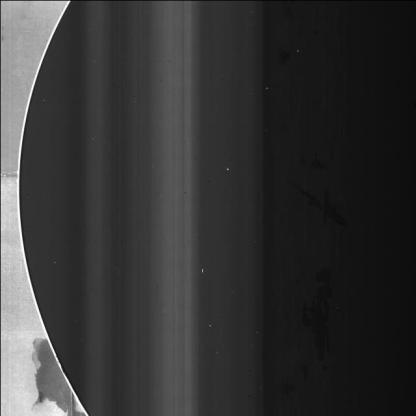crescent_gap: (11, 0, 112, 416)
